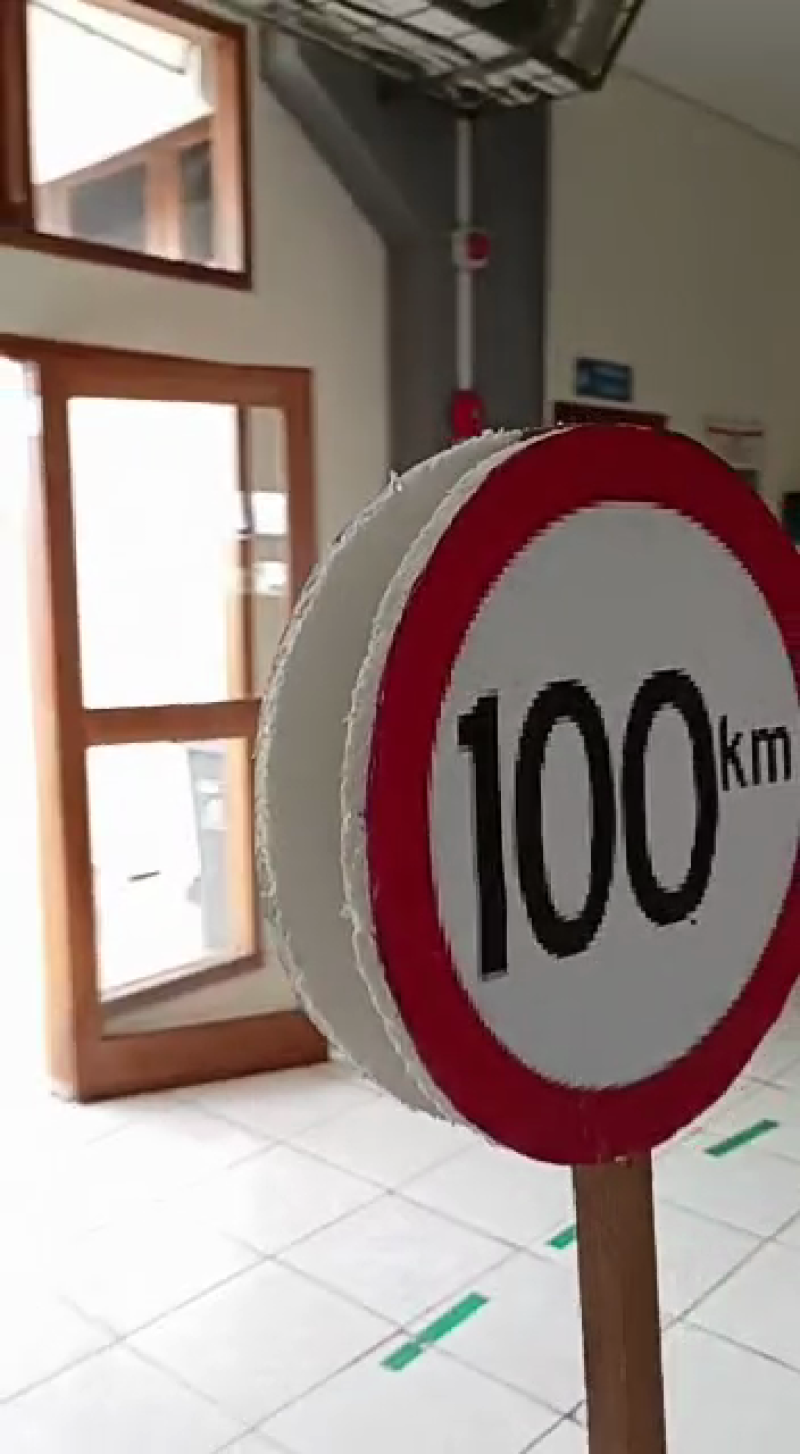batas maksimal 100kmperjam: (331, 386, 800, 1183)
